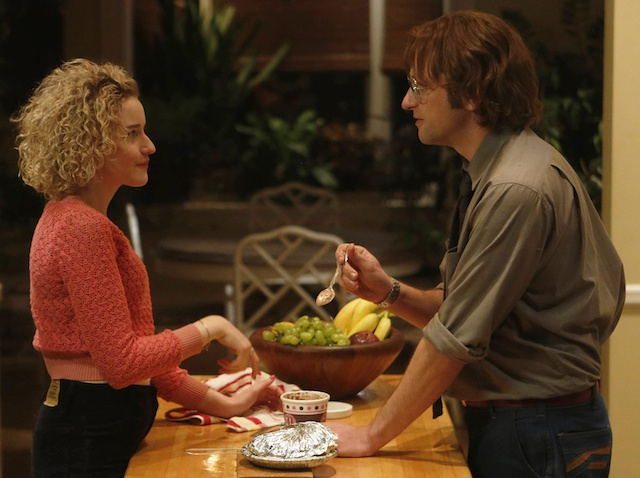mouth: (412, 113, 425, 127), (133, 159, 148, 170)
nose: (401, 98, 415, 110), (140, 144, 156, 154)
